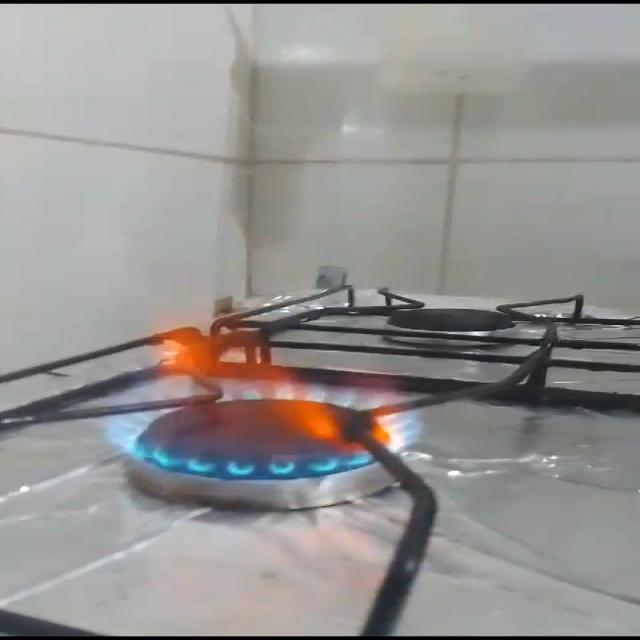fire: (104, 298, 435, 475)
